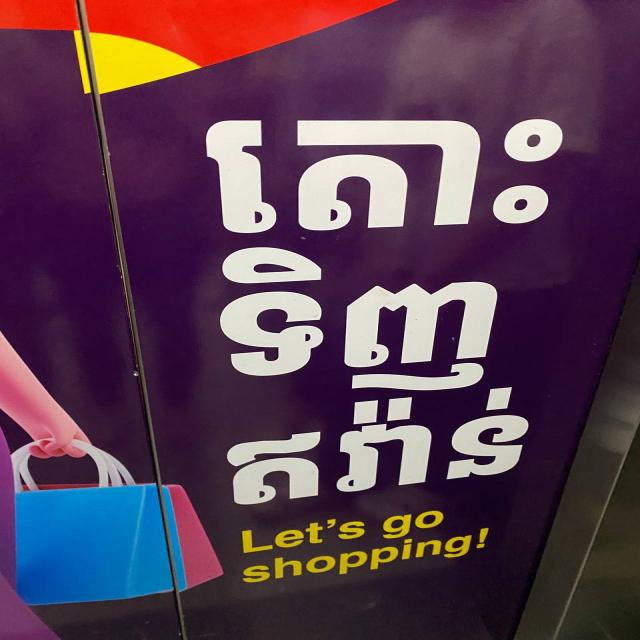Yolov11kh: (199, 240, 526, 410), (188, 108, 585, 242), (215, 380, 543, 512)
